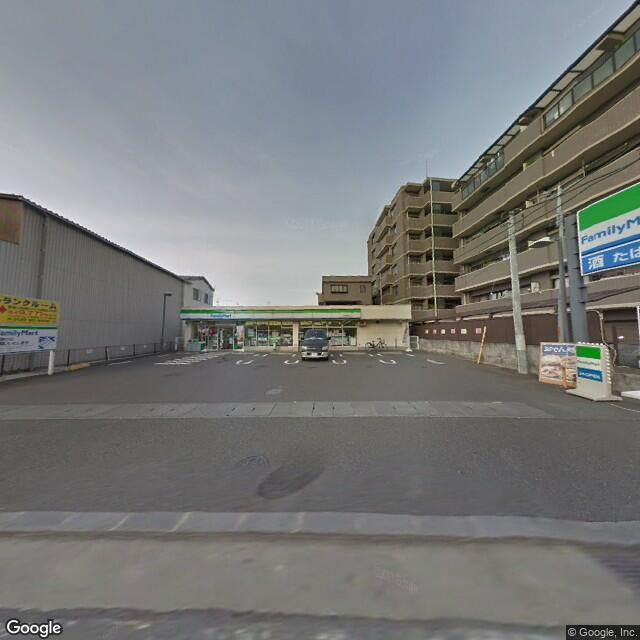family_mart: (575, 181, 639, 262), (178, 302, 361, 323), (574, 343, 605, 383)
